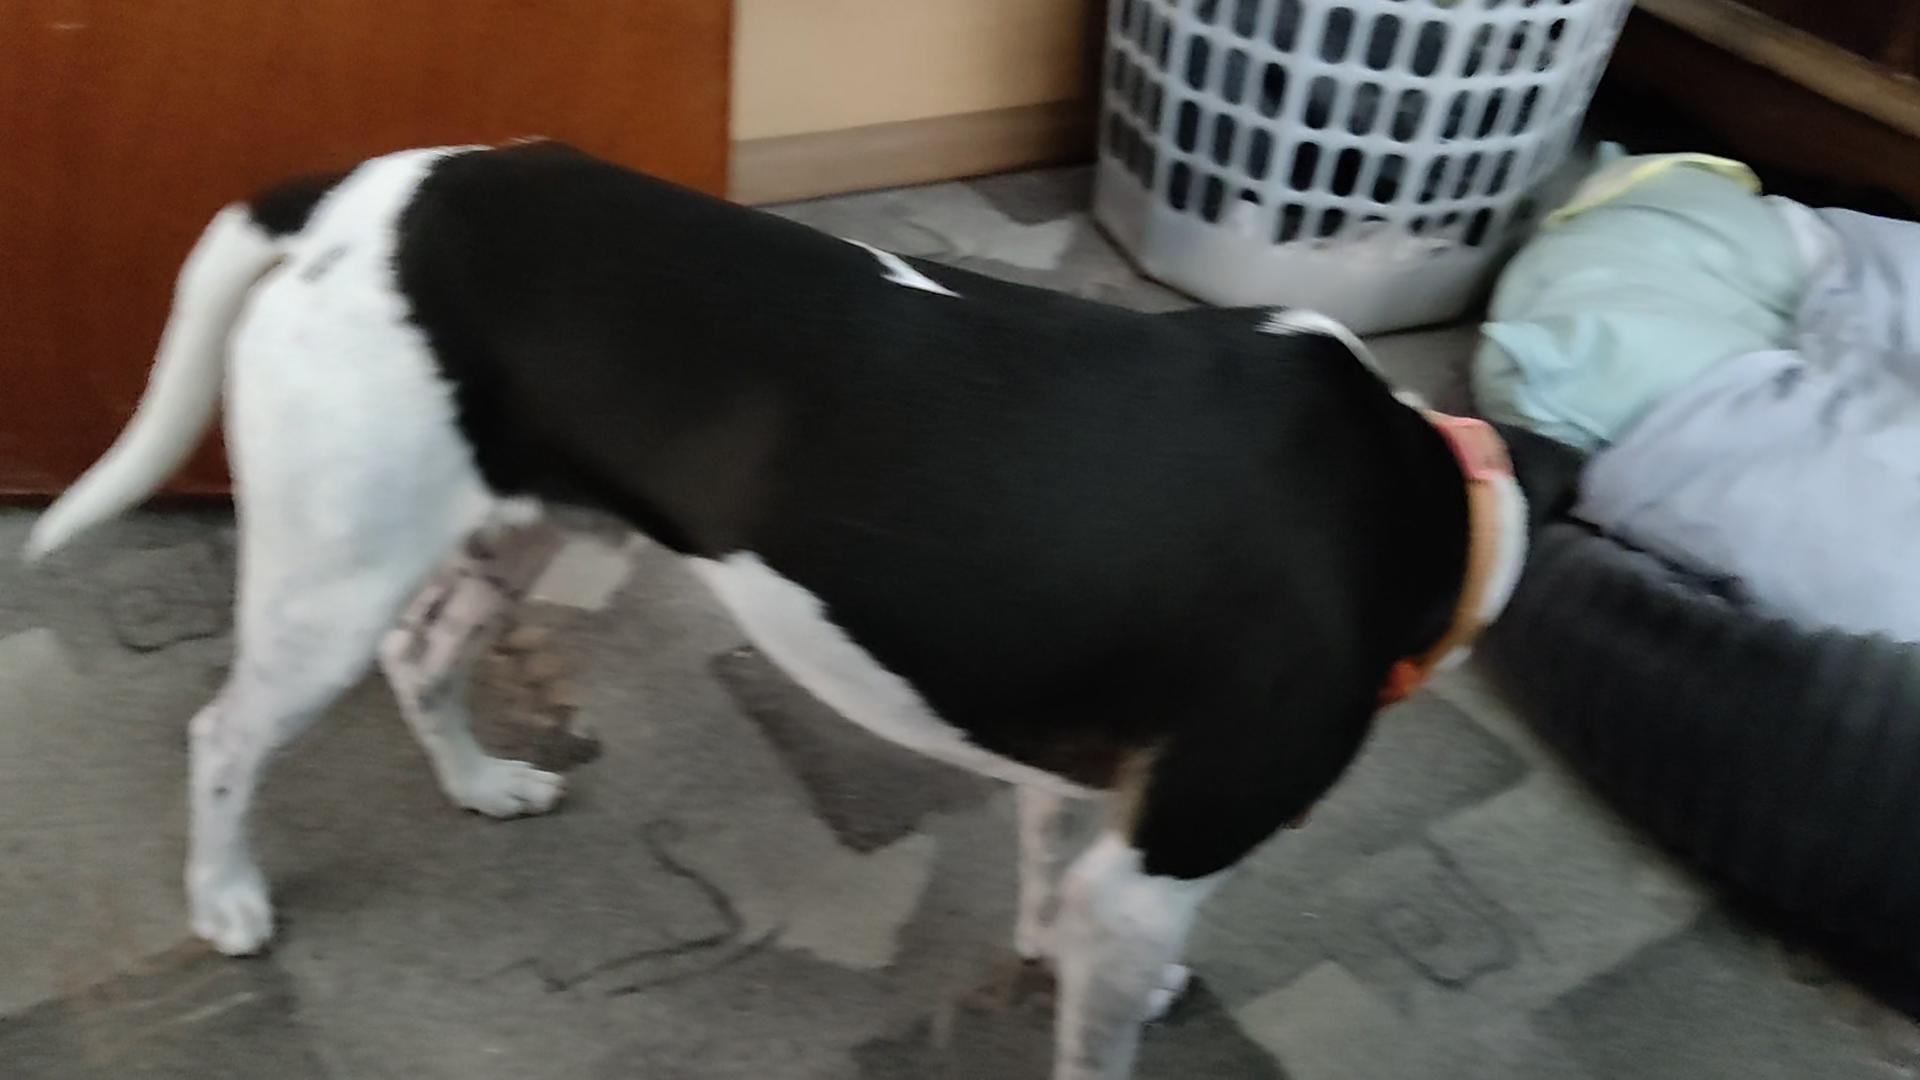Dog: (12, 131, 1596, 1079)
